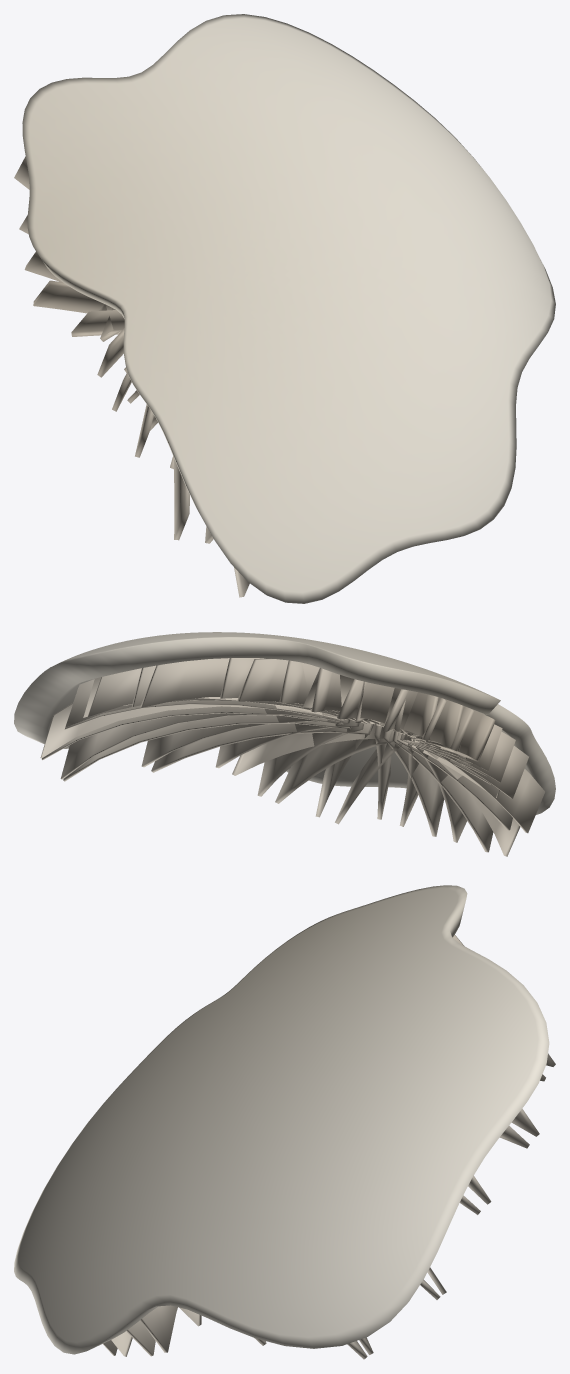
The model's file is schizophyllum-commune.glb.
The picture shows the model from 3 angles, top to bottom: view 1: azimuth 30°, elevation 25°; view 2: azimuth 150°, elevation 25°; view 3: azimuth 270°, elevation 25°; orthographic projection. The views are drawn at different scales.
Visible parts, largest first — view 1: pileus_cap, split_folds; view 2: split_folds, pileus_cap; view 3: pileus_cap, split_folds.
Boxes of the visible parts, x1=… form: pileus_cap: x1=22, y1=14, x2=555, y2=603; split_folds: x1=14, y1=156, x2=264, y2=597; split_folds: x1=40, y1=658, x2=544, y2=856; pileus_cap: x1=14, y1=632, x2=555, y2=814; pileus_cap: x1=14, y1=885, x2=549, y2=1354; split_folds: x1=103, y1=935, x2=555, y2=1359.
Size of the model in its own units: 1.31 by 0.8902 by 1.16.
